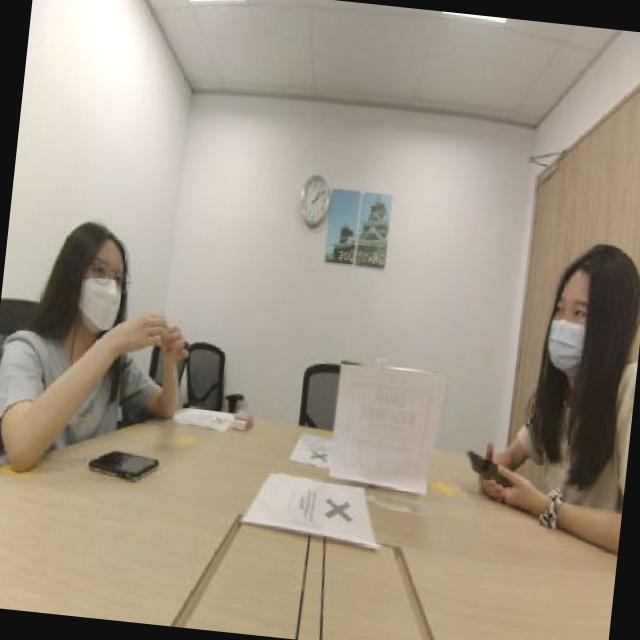Person: (0, 198, 177, 460), (505, 226, 640, 507)
